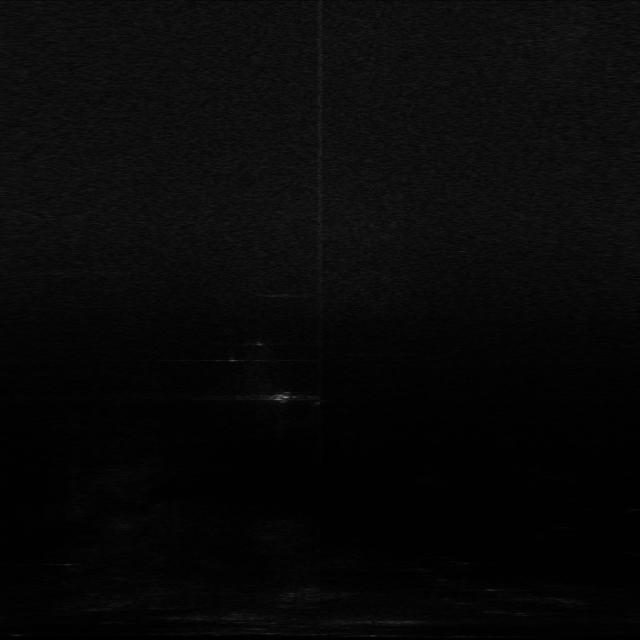rov: (269, 390, 297, 406)
